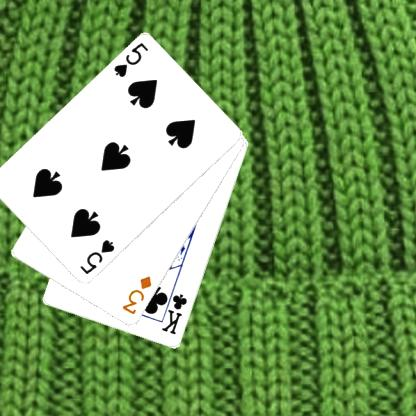3D: (119, 272, 154, 316)
5S: (110, 40, 150, 80), (77, 237, 116, 276)
KC: (157, 284, 189, 336)
